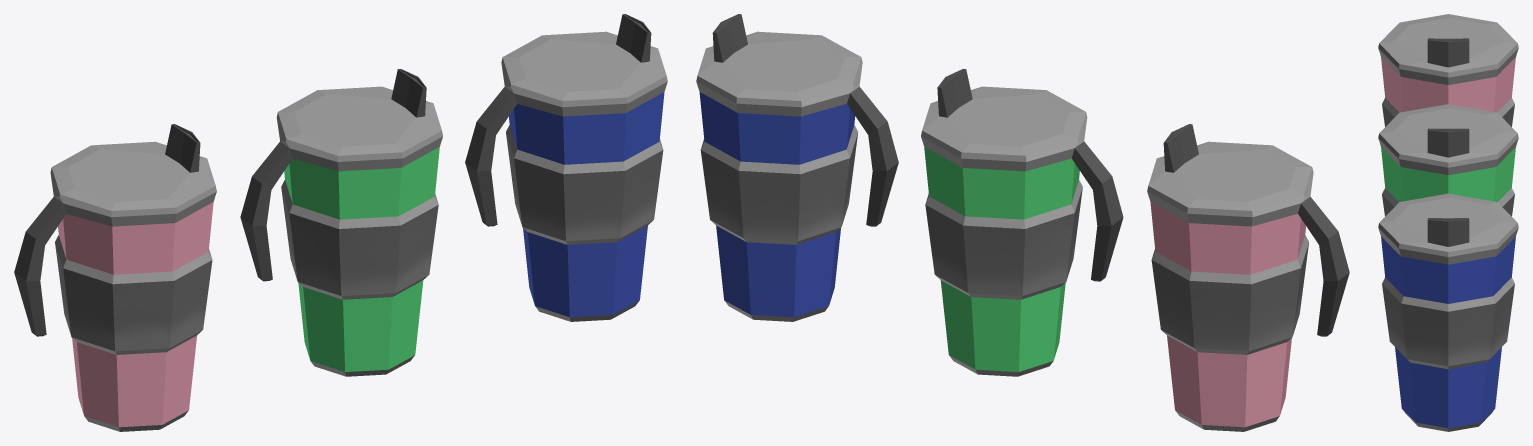
Rendered from copo de cafe.fbx.
The picture shows the model from 3 angles, left to right: view 1: azimuth 30°, elevation 25°; view 2: azimuth 150°, elevation 25°; view 3: azimuth 270°, elevation 25°; orthographic projection. The views are drawn at different scales.
Parts seen in each view (by area): view 1: Cube; view 2: Cube; view 3: Cube.
Part boxes in pixels (x1,y1,x2,y2): Cube: (14,14,667,431); Cube: (696,14,1349,431); Cube: (1378,14,1518,431).
Bounding box in the file's own units: 880 × 348 × 206.
Materials: 1 (1 with a texture image).
